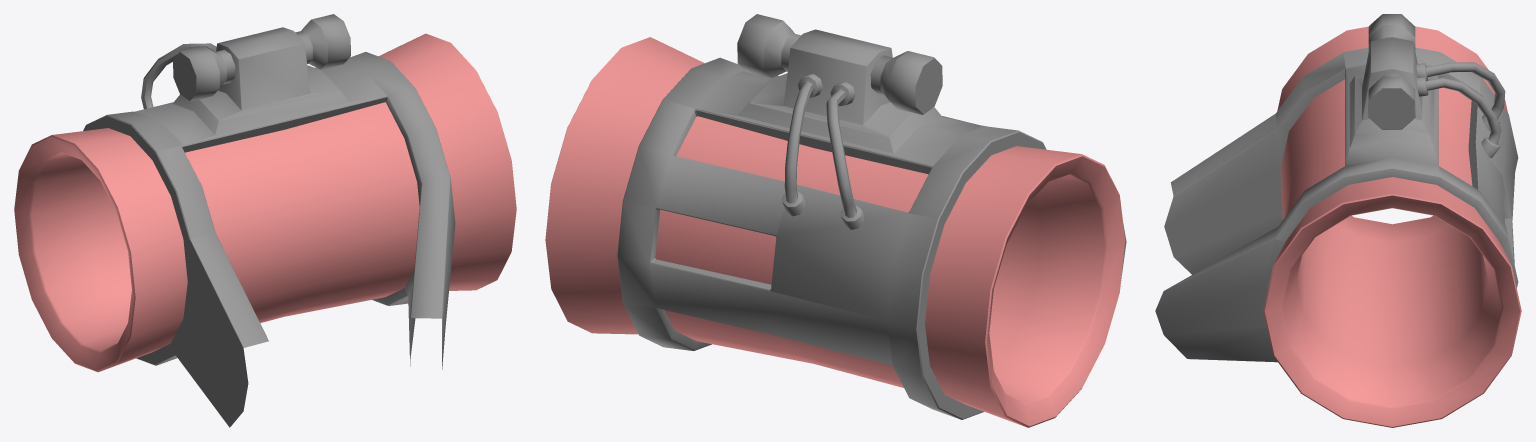
File: OldBF_Cannon.gltf
3 views of the same model, side by side, from view 1: azimuth 30°, elevation 25°; view 2: azimuth 150°, elevation 25°; view 3: azimuth 270°, elevation 25° (orthographic). The views are drawn at different scales.
Parts seen in each view (by area): view 1: OldBF_Cannon; view 2: OldBF_Cannon; view 3: OldBF_Cannon.
Part boxes in pixels (box(x1,y1,x2,y2)): OldBF_Cannon: box(14, 14, 516, 427); OldBF_Cannon: box(545, 14, 1126, 427); OldBF_Cannon: box(1155, 14, 1521, 427).
Bounding box in the file's own units: 3.54 × 2.61 × 3.03.
